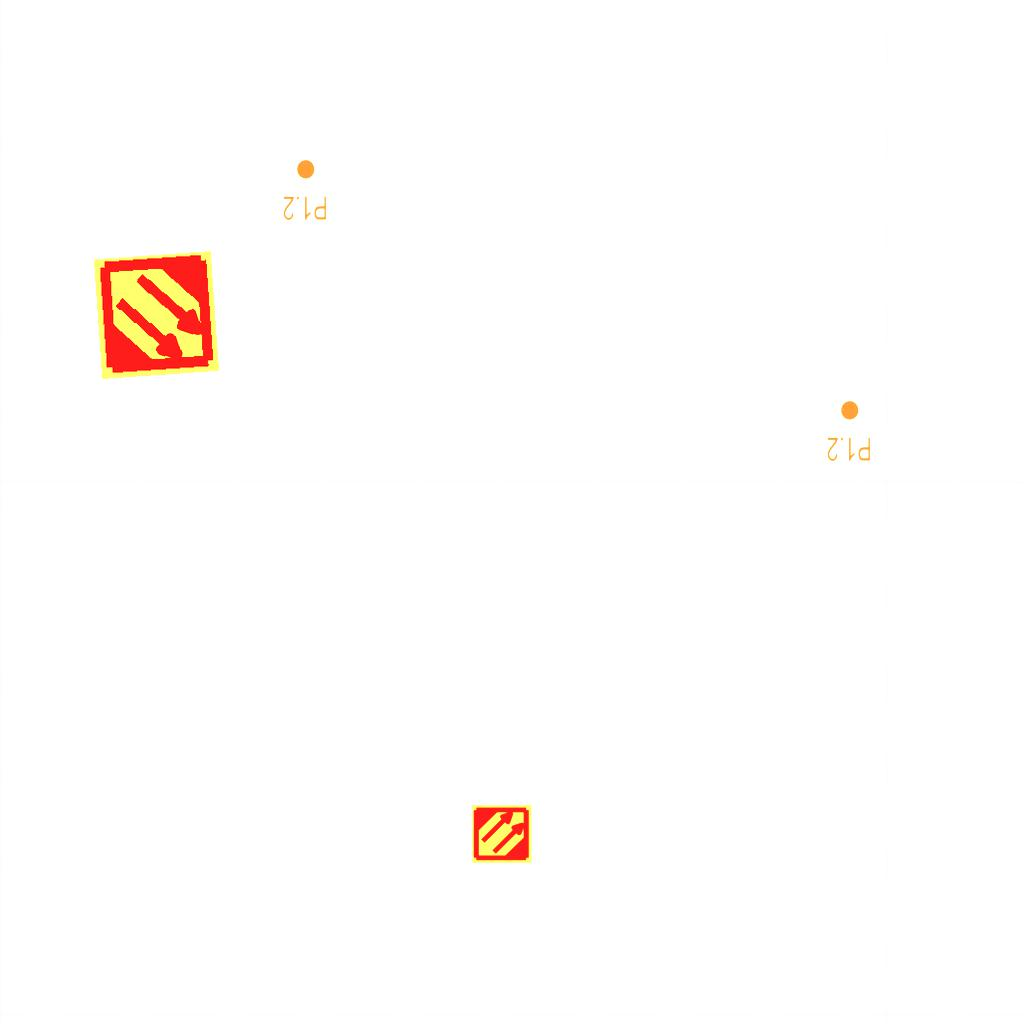ASR_Ansaugrauchmelder: (89, 248, 224, 383), (471, 803, 533, 865)
Downlight_LED_Einbauleuchten_Flur: (282, 158, 328, 222), (826, 399, 872, 463)
